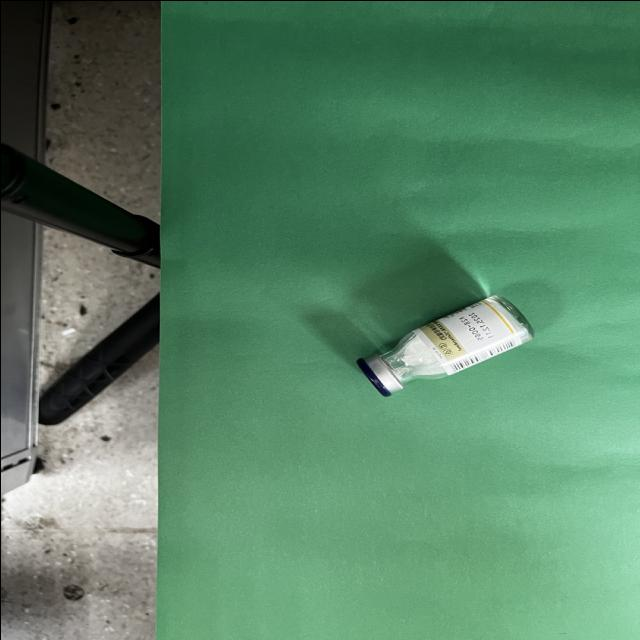Vials: (355, 294, 534, 396)
